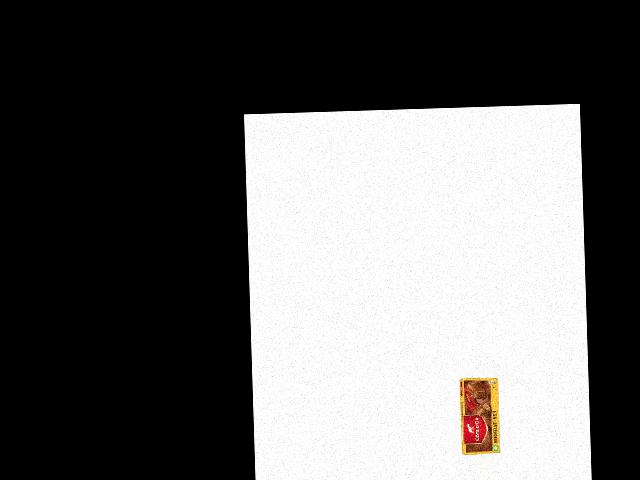chocolate: (457, 375, 506, 454)
